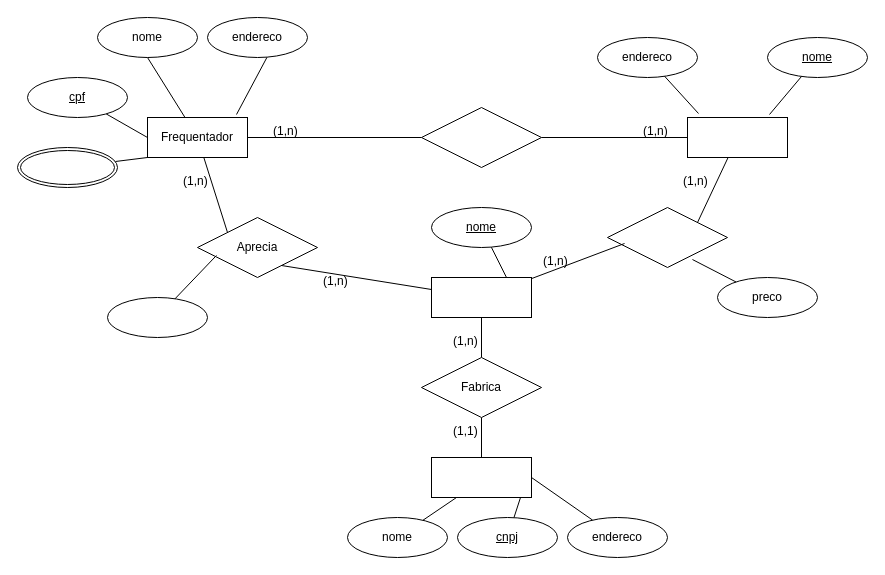
The diagram is 885 pixels wide and 575 high, and some of its shapes have lost their labels. The shapes that lost their labels are listed below. From the top down, each one's centre as x and y in pixels, then its label:
At pixel 481 137: "Frequenta".
At pixel 737 137: "Bar".
At pixel 67 167: "telefone".
At pixel 667 237: "Serve".
At pixel 157 317: "favorita".
At pixel 481 297: "Cerveja".
At pixel 481 477: "Fabricante".
